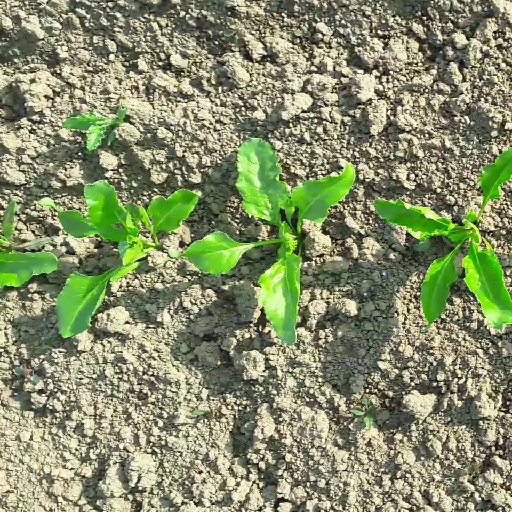sugarbeet: (176, 131, 359, 346), (369, 138, 512, 333), (50, 178, 202, 341), (1, 200, 58, 296)
weed: (59, 101, 127, 152), (346, 394, 383, 432), (193, 409, 208, 416)
